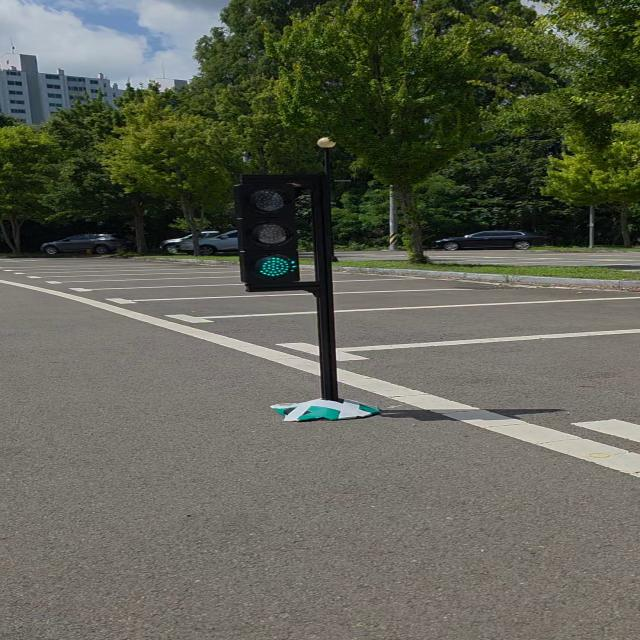green: (240, 181, 301, 288)
